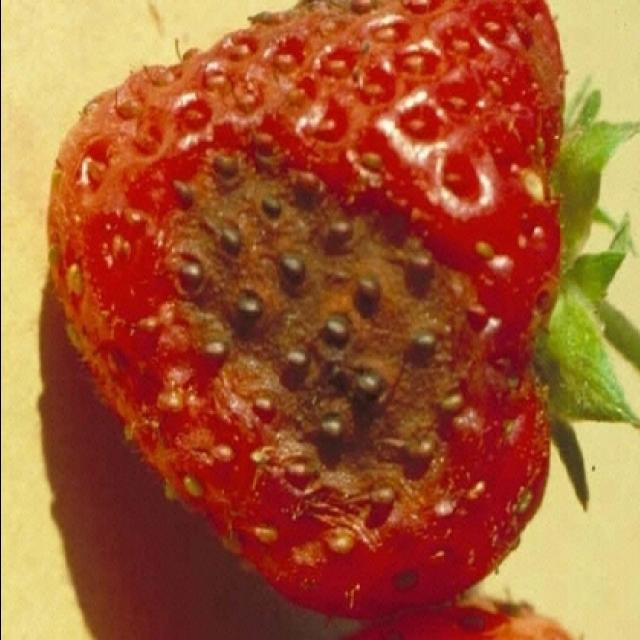Anthracnose Fruit Rot: (204, 208, 446, 450)
